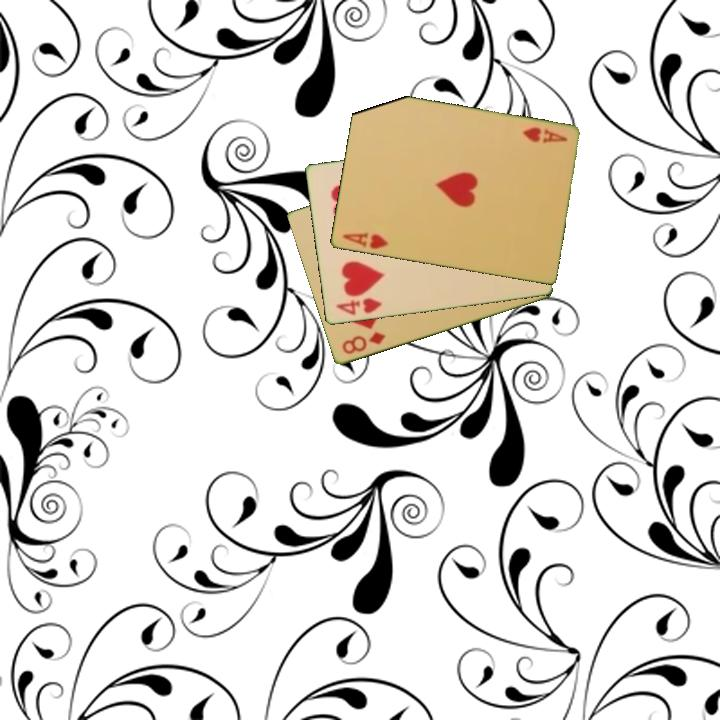4h: (332, 295, 384, 319)
8d: (338, 328, 389, 357)
Ah: (338, 229, 391, 252), (518, 124, 570, 146)
